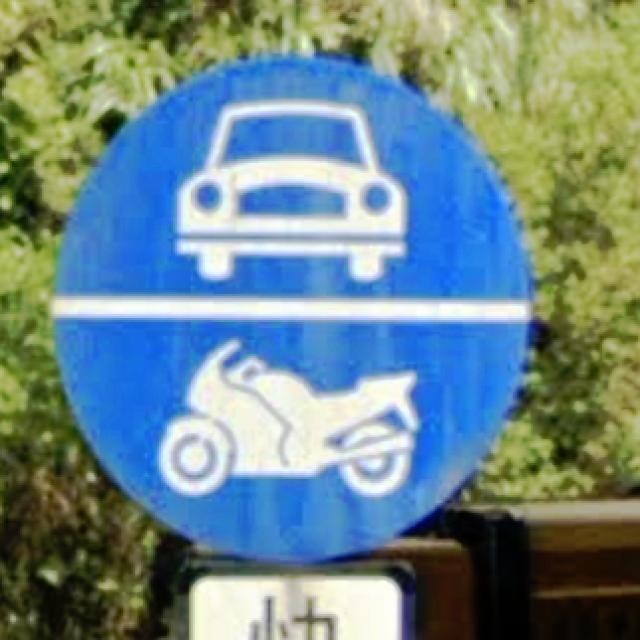carmotorcycle: (54, 56, 531, 559)
